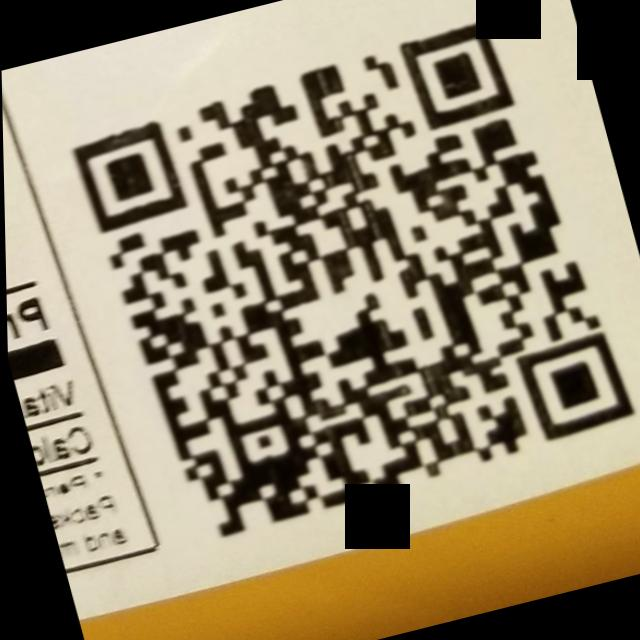QR_CODE: (37, 0, 640, 568)
